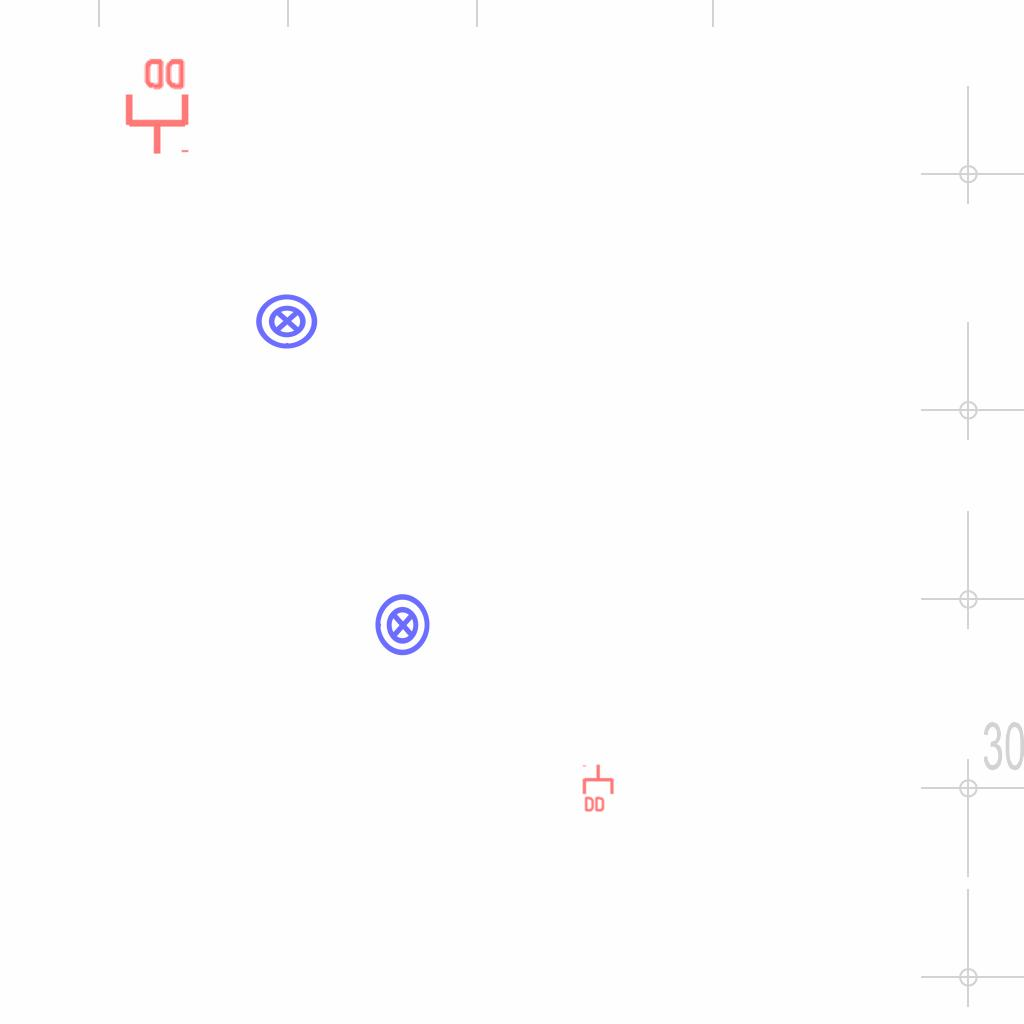Datenanschluss_zweifach: (121, 54, 190, 157), (582, 763, 616, 814)
Taster_beleuchtet: (254, 288, 320, 354), (370, 592, 436, 658)
